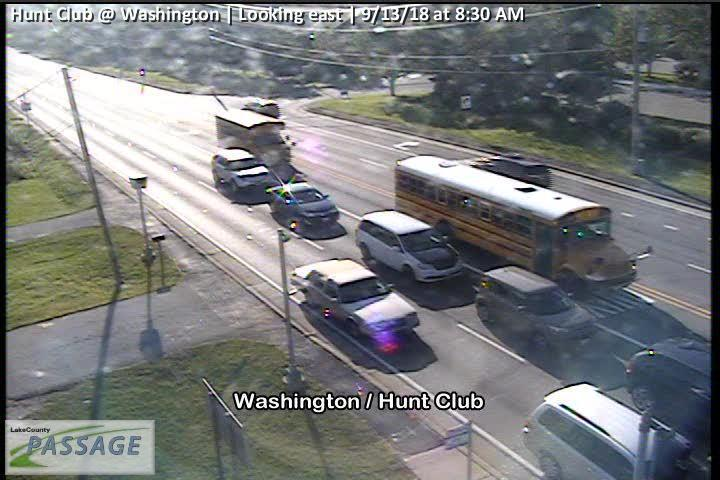Bus: (395, 155, 636, 300), (214, 107, 296, 161)
SUV: (520, 382, 708, 480), (475, 264, 594, 351), (622, 333, 709, 427), (355, 210, 464, 285), (484, 151, 551, 194), (210, 148, 272, 192)
Sedan: (289, 257, 421, 340), (267, 182, 339, 234)
